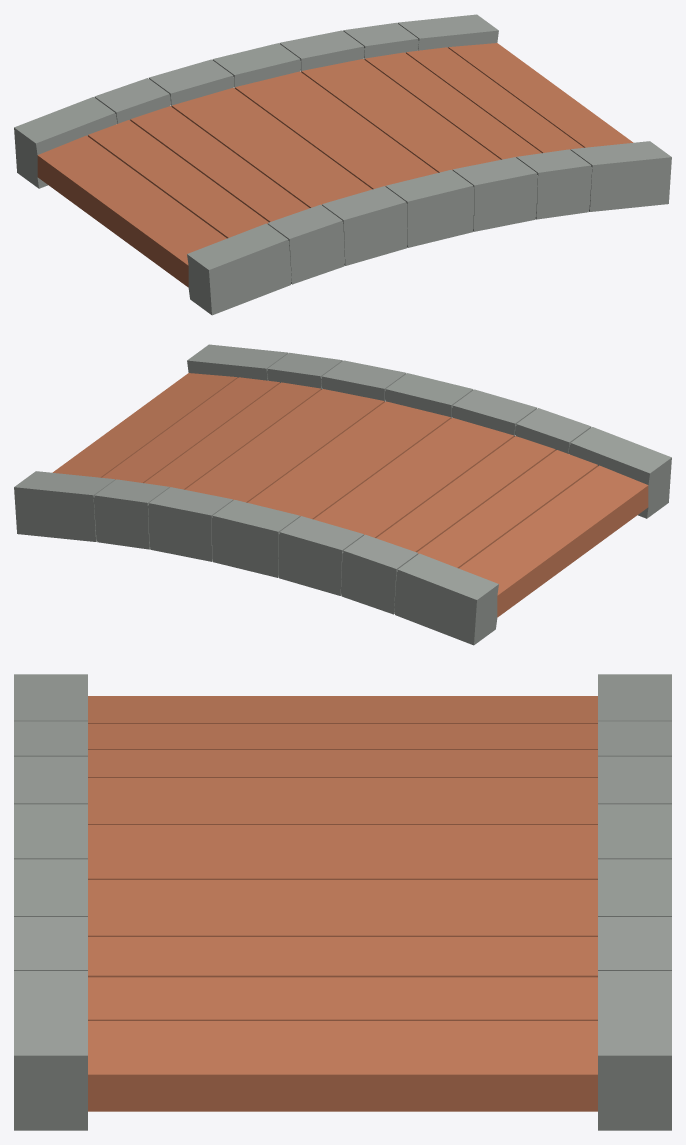
File: Bridge.fbx
The picture shows the model from 3 angles, top to bottom: view 1: azimuth 30°, elevation 25°; view 2: azimuth 150°, elevation 25°; view 3: azimuth 270°, elevation 25°; orthographic projection. The views are drawn at different scales.
Parts seen in each view (by area): view 1: Cube.030; view 2: Cube.030; view 3: Cube.030.
Boxes of the visible parts, x1=… form: Cube.030: x1=14, y1=14, x2=671, y2=315; Cube.030: x1=14, y1=344, x2=671, y2=645; Cube.030: x1=14, y1=674, x2=671, y2=1130.
Bounding box in the file's own units: 142 × 19.32 × 103.
Materials: 1 (1 with a texture image).
